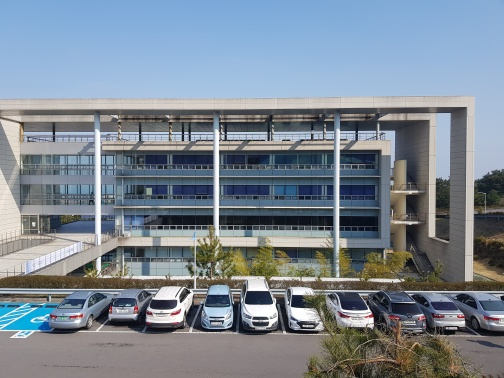Engineering College Building 4: (8, 98, 472, 281), (117, 119, 425, 266), (24, 131, 397, 241)
